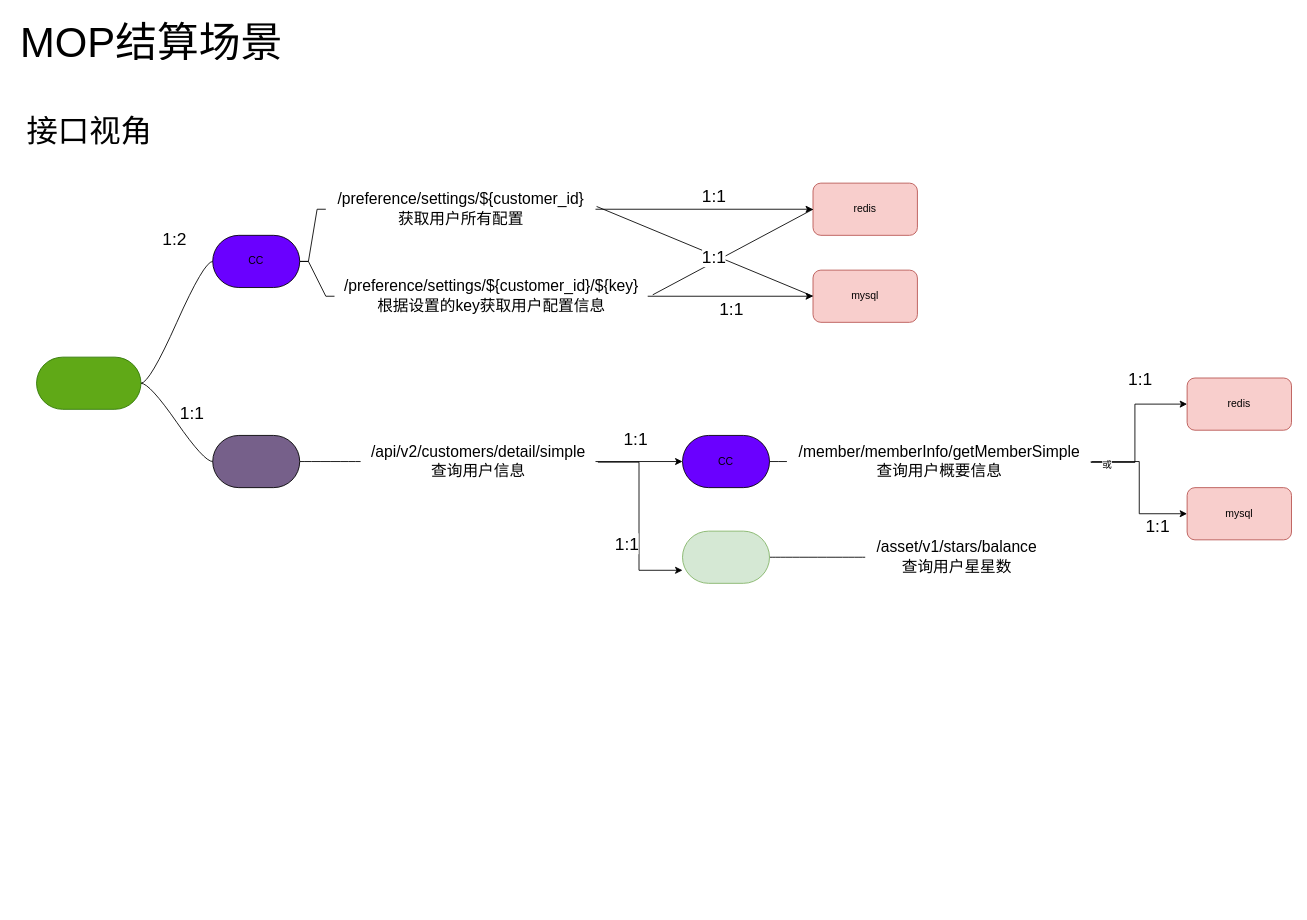
Some shapes in this 1307 by 920 pixel diagram are drawn without their labels. The centre of each missing label's shape, as x and y in pixels:
"CAC" goes at point 726,556.
"CRM Adapter" goes at point 256,461.
"MOP -BFF /mop/order/review/v5" goes at point 88,382.
